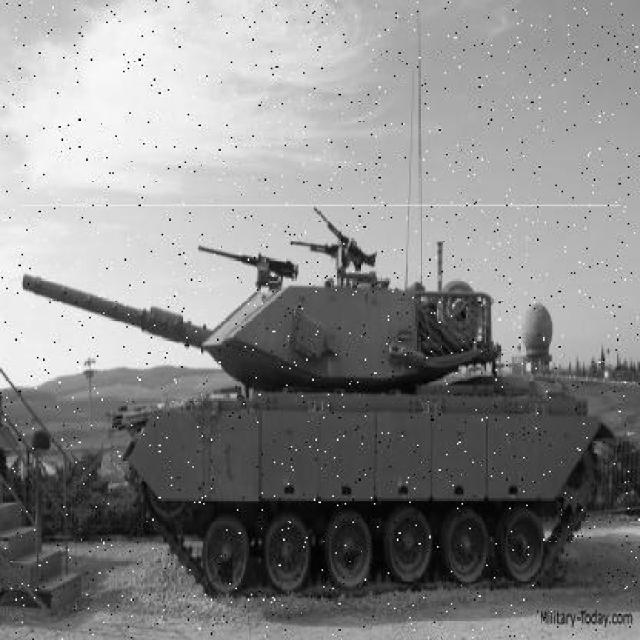Tank: (23, 206, 623, 601)
